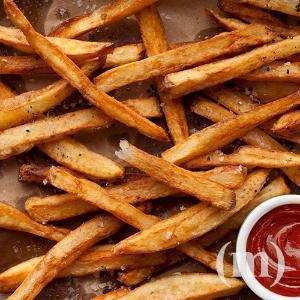fries_350cal: (1, 2, 298, 209)
